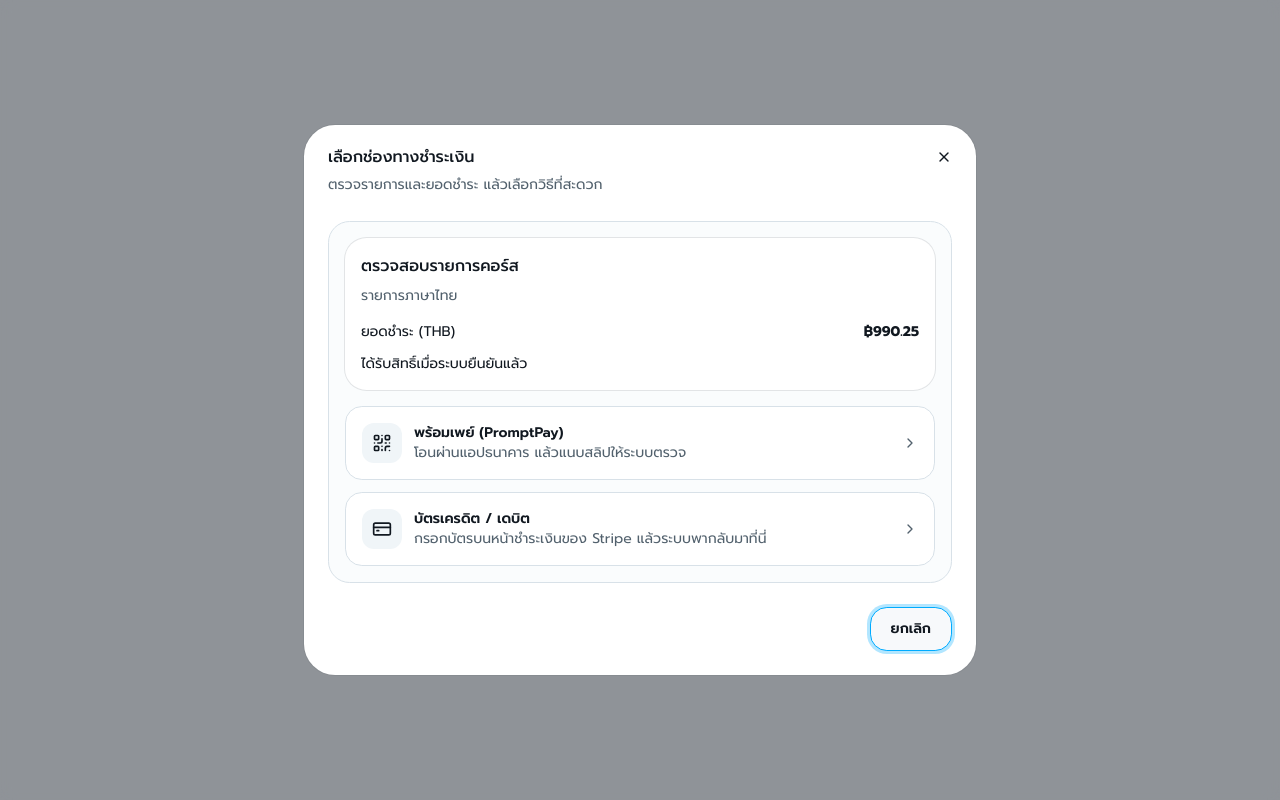
Scenario: course order review and payment › falls back to the bank account when no PromptPay QR is configured
The width and height of the screenshot is (1280, 800).
Click the button "PromptPay": (640, 443) top-left (345, 406), bottom-right (935, 480)
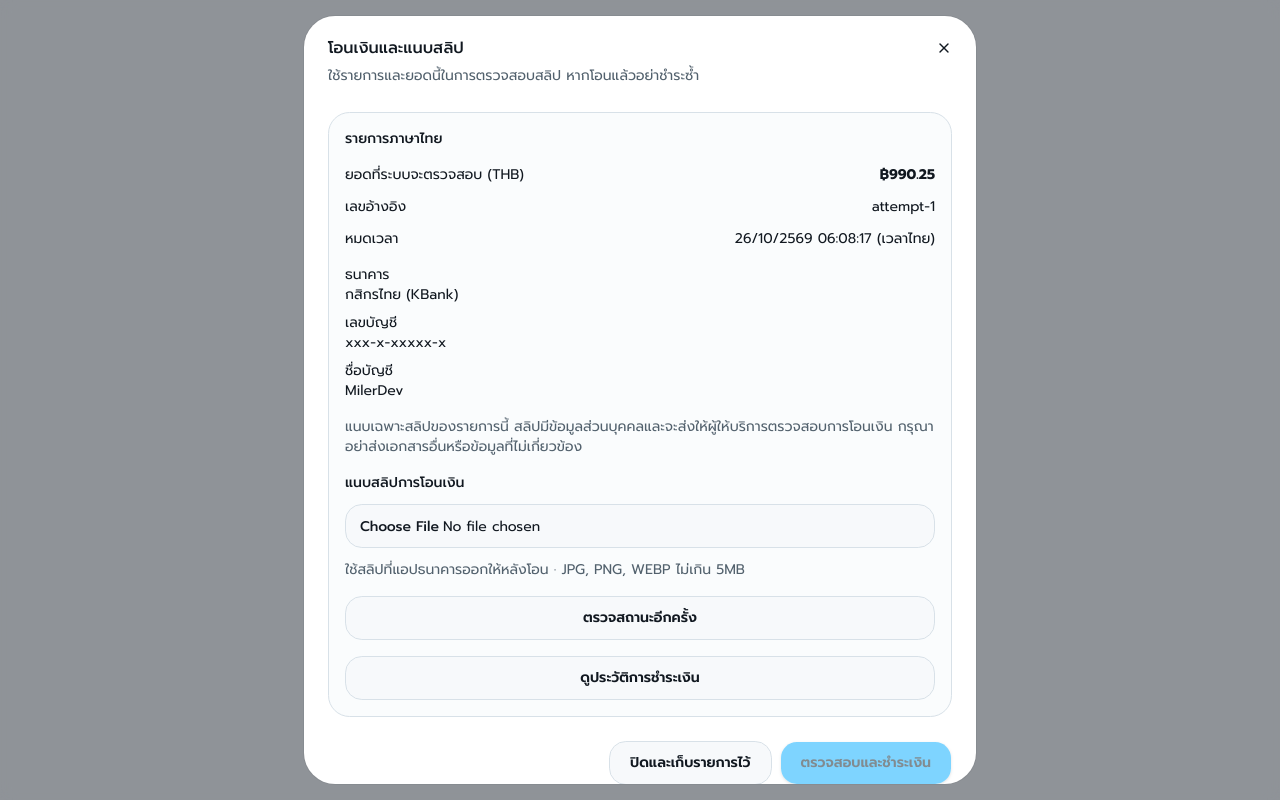
Now the text "เลขบัญชี" is shown, box top-left (345, 312), bottom-right (397, 333)
